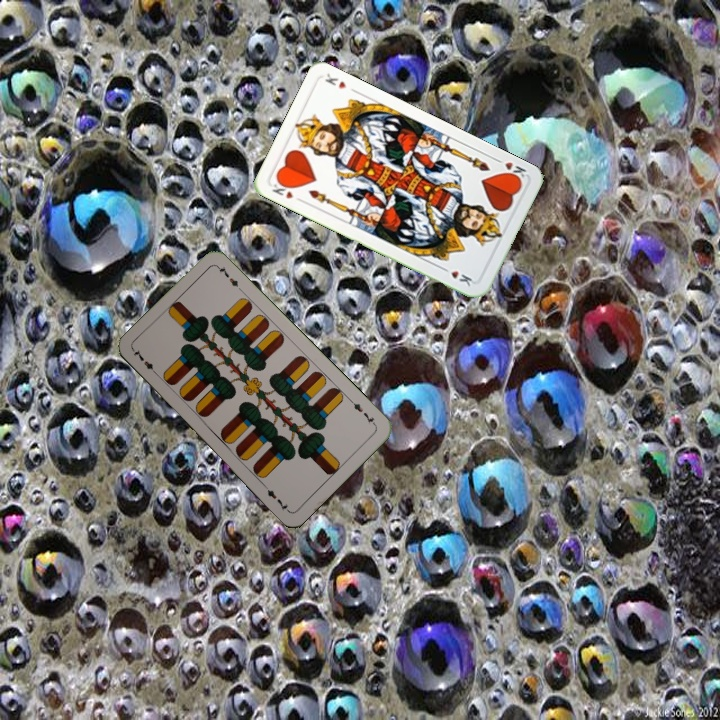E7: (346, 396, 379, 428), (129, 345, 161, 378)
HK: (268, 177, 306, 205), (499, 158, 528, 184)
